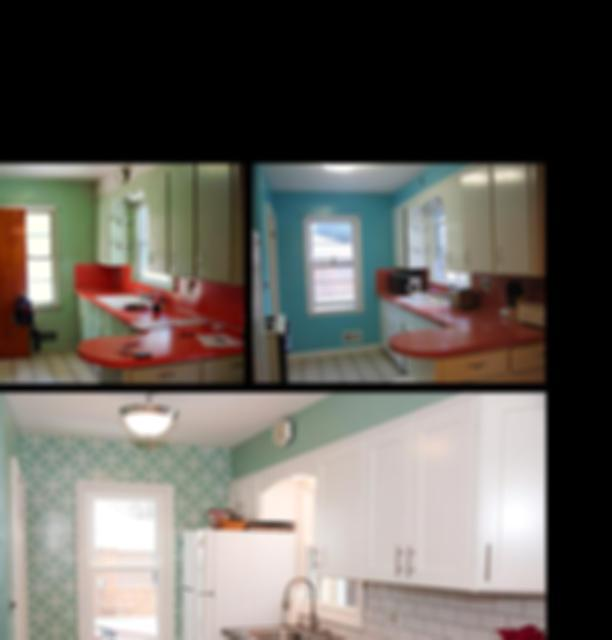Lavaplatos: (231, 569, 339, 640), (396, 275, 457, 309), (92, 282, 158, 312)
